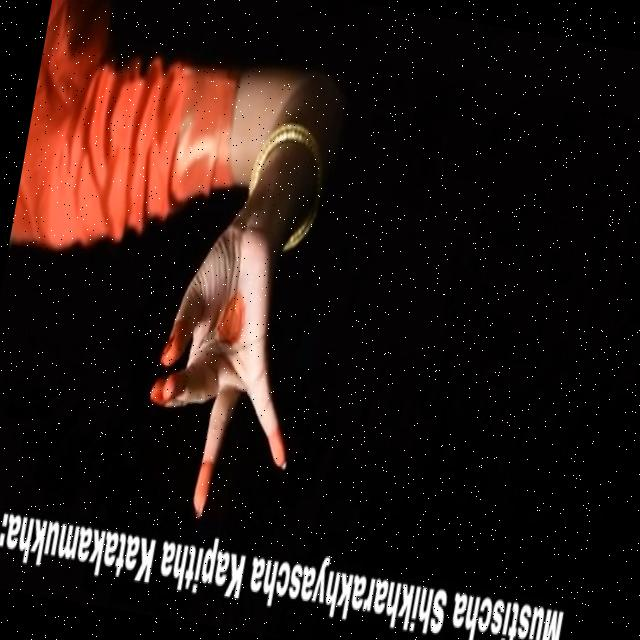Katakamukha: (113, 207, 340, 542)
bangle: (234, 106, 347, 218)
text: (0, 487, 571, 640)
